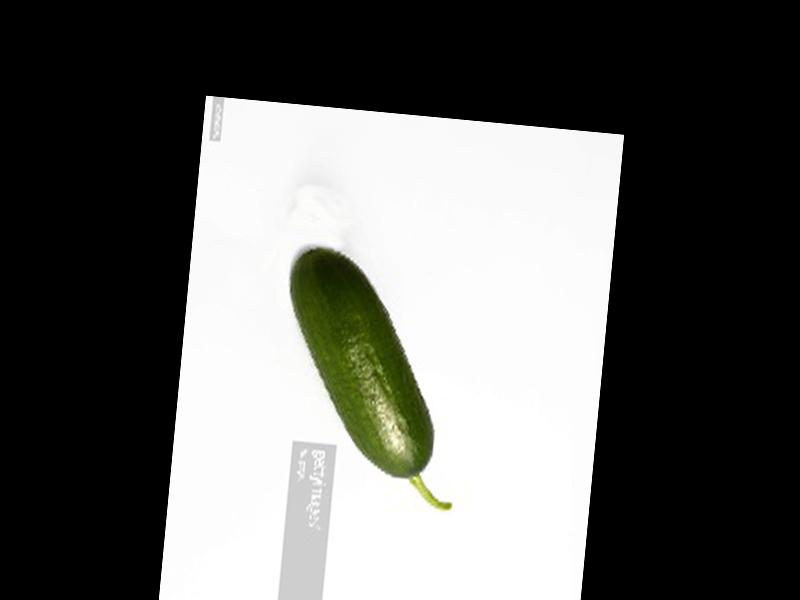Cucumber: (268, 247, 472, 515)
